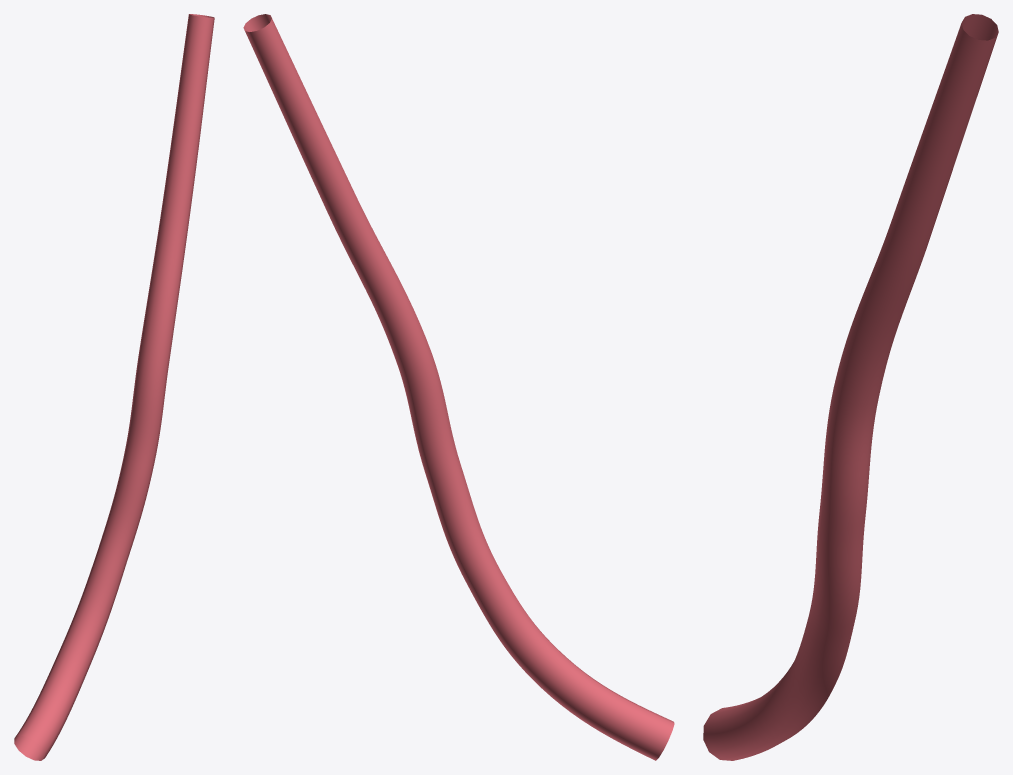
The picture shows the model from 3 angles, left to right: view 1: azimuth 30°, elevation 25°; view 2: azimuth 150°, elevation 25°; view 3: azimuth 270°, elevation 25°; orthographic projection. The views are drawn at different scales.
Parts seen in each view (by area): view 1: ZA_38887c0938140064; view 2: ZA_38887c0938140064; view 3: ZA_38887c0938140064.
Part boxes in pixels (left/top/right/bottom): ZA_38887c0938140064: left=14, top=14, right=214, bottom=760; ZA_38887c0938140064: left=243, top=14, right=674, bottom=760; ZA_38887c0938140064: left=703, top=14, right=998, bottom=760.
Bounding box in the file's own units: 0.0245 × 0.0527 × 0.0153.
